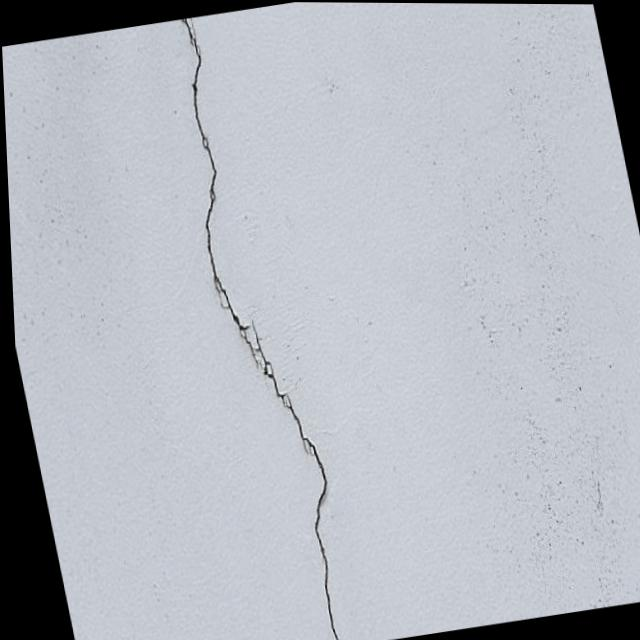Crack: (187, 229, 355, 499), (150, 14, 259, 260), (269, 459, 370, 640)
